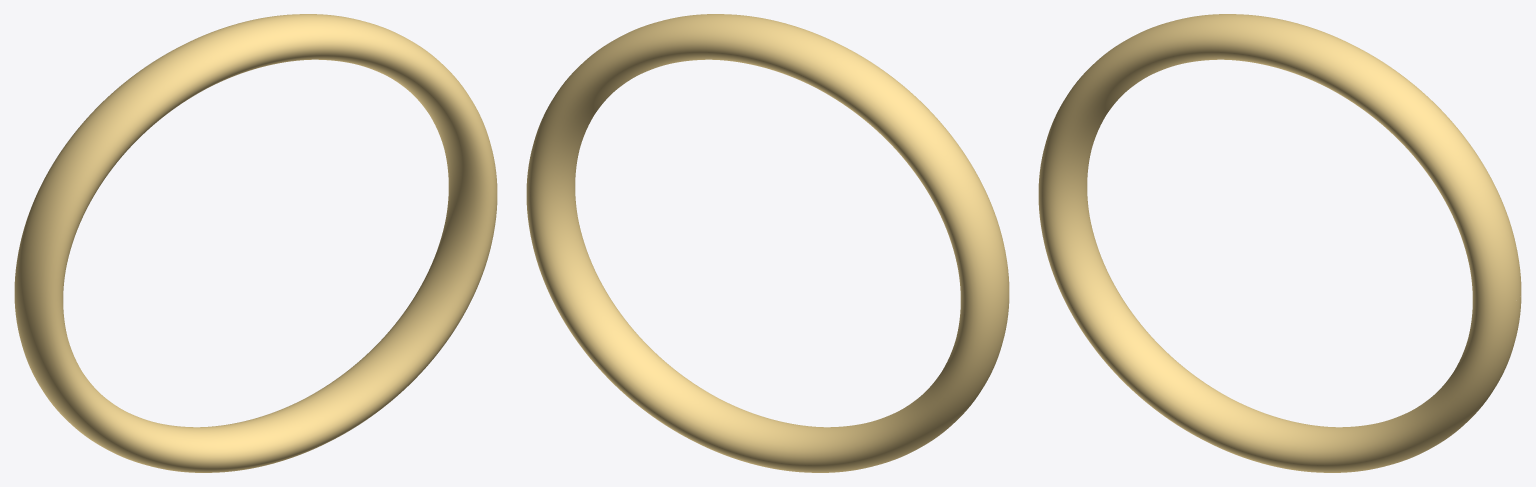
File: bangle-gold.glb
The picture shows the model from 3 angles, left to right: view 1: azimuth 30°, elevation 25°; view 2: azimuth 150°, elevation 25°; view 3: azimuth 330°, elevation 25°; orthographic projection.
Parts seen in each view (by area): view 1: bangle; view 2: bangle; view 3: bangle.
Part boxes in pixels (x1,y1,x2,y2): bangle: [14, 14, 497, 472]; bangle: [526, 14, 1009, 472]; bangle: [1038, 14, 1521, 472].
Bounding box in the file's own units: 0.0716 × 0.0636 × 0.0084.
